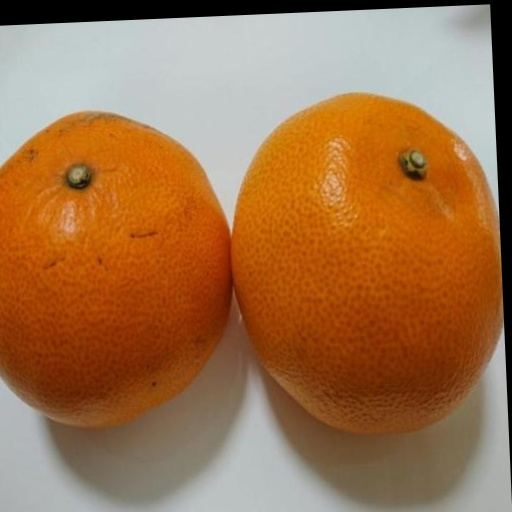fruit: (231, 94, 503, 432), (0, 113, 230, 427)
